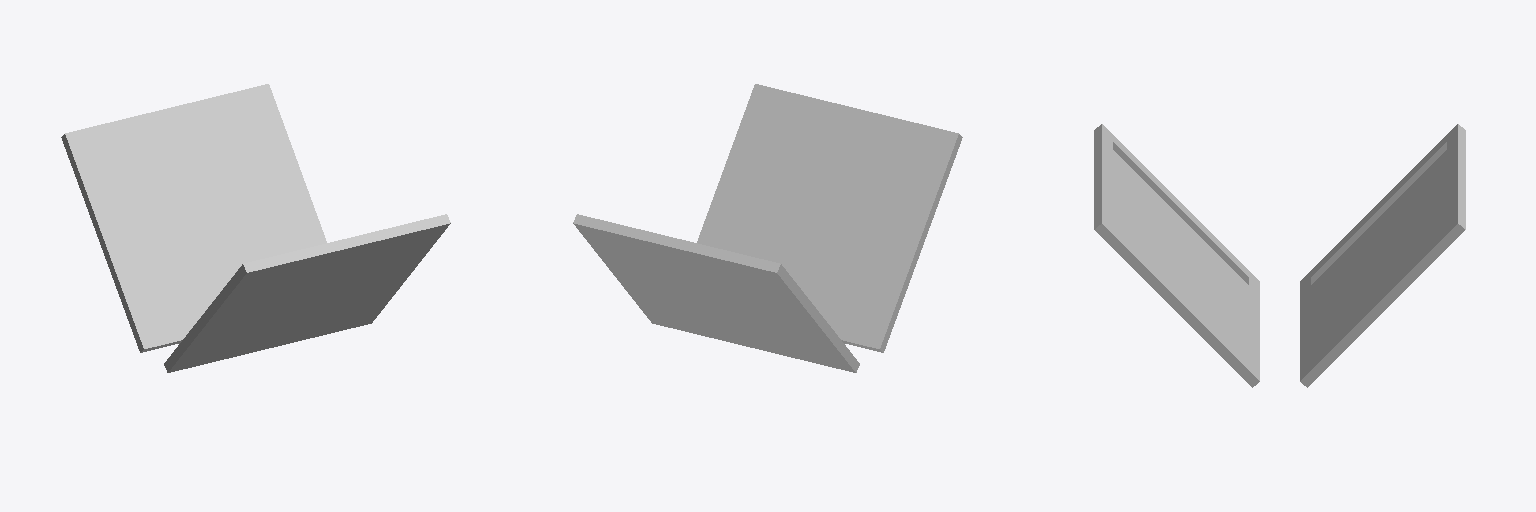
Rendered from MOTL_Weapon_Cover.obj.
The picture shows the model from 3 angles: view 1: azimuth 30°, elevation 25°; view 2: azimuth 150°, elevation 25°; view 3: azimuth 270°, elevation 25°; orthographic projection.
Visible parts, largest first — view 1: Plane; view 2: Plane; view 3: Plane.
Boxes of the visible parts, x1,y1,x2,y2 form: Plane: [61, 84, 450, 372]; Plane: [573, 84, 962, 372]; Plane: [1094, 124, 1465, 387].
Bounding box in the file's own units: 1 × 0.7709 × 1.58.